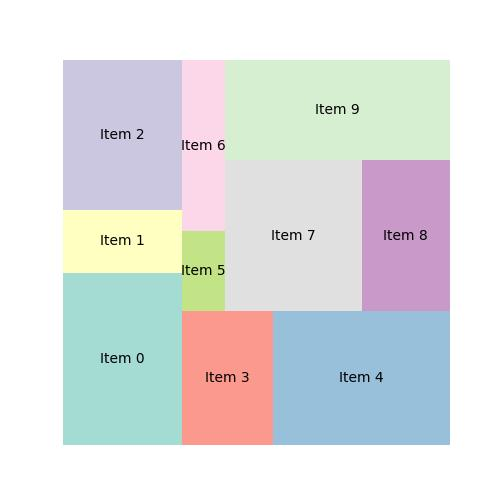rectangle: (272, 310, 450, 444), (227, 57, 450, 160), (224, 158, 362, 310), (62, 272, 181, 444), (62, 59, 181, 209), (362, 159, 451, 309), (181, 309, 274, 445), (179, 58, 226, 231), (60, 209, 181, 273), (181, 231, 225, 310)
